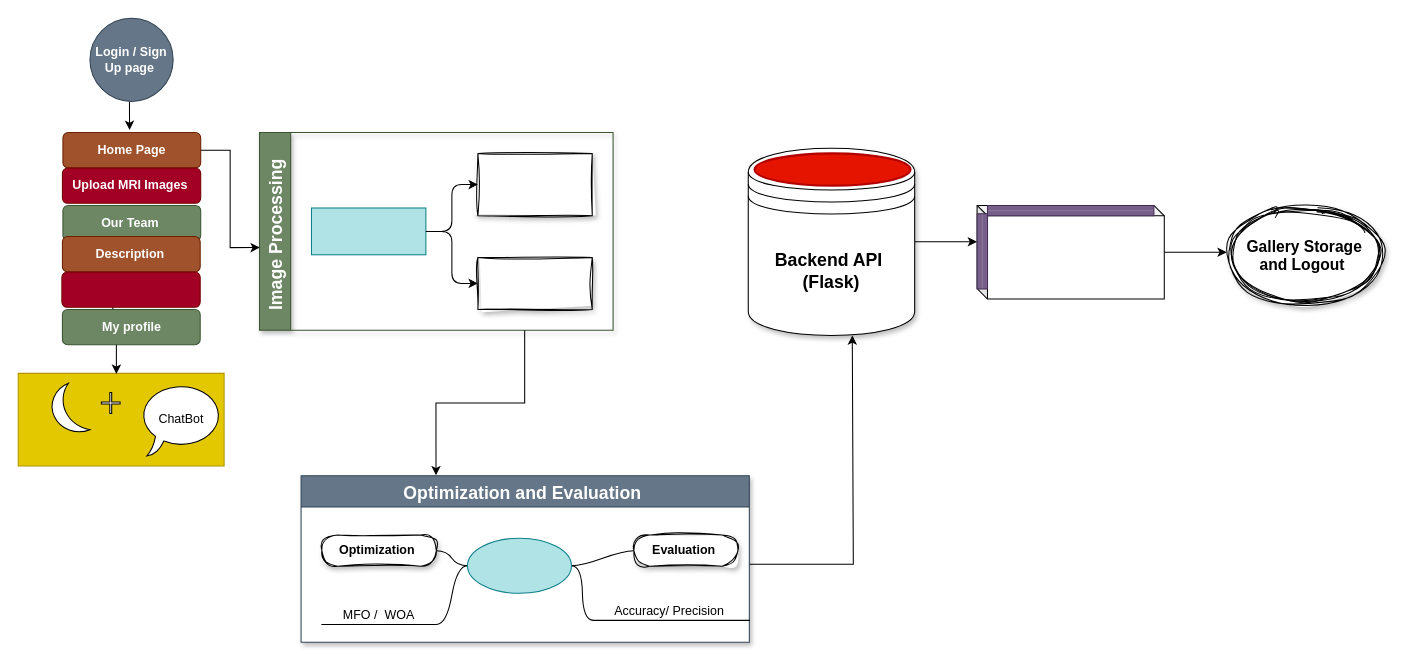
This 1407x668 diagram has some shape labels left out. The centre of each missing label's shape, as x and y in pixels:
"Dark / Light Mode" goes at (x=68, y=408).
"Dashboard" goes at (x=130, y=289).
"DenseNet Classifier" goes at (x=536, y=284).
"EfficientNetB0 classifier" goes at (x=536, y=185).
"How predicted" goes at (x=518, y=565).
"Model Building" goes at (x=368, y=231).
"Result (Classification - Tumor or No Tumor)" goes at (x=1070, y=251).
